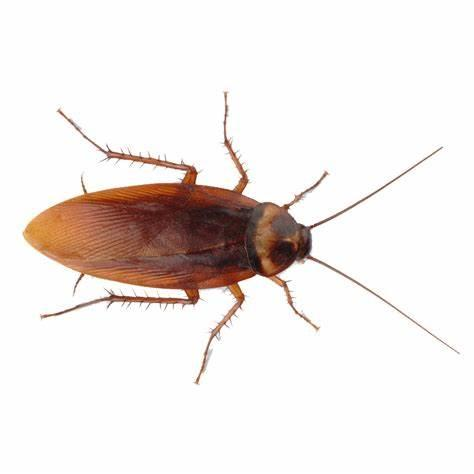cockroach: (15, 152, 333, 328)
